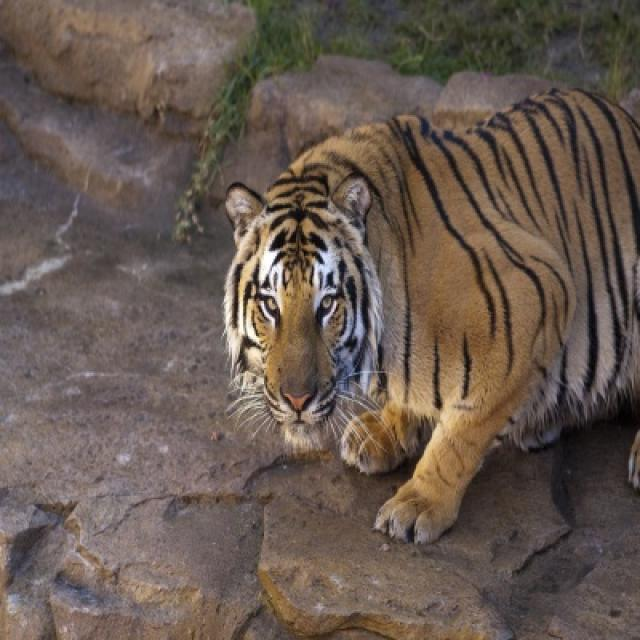Tiger: (221, 89, 638, 529)
